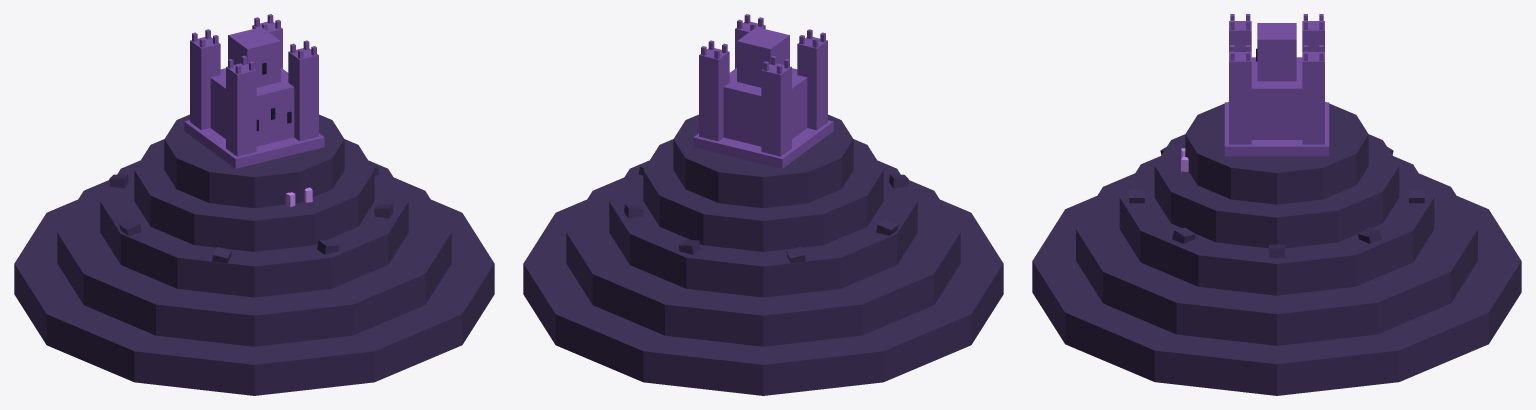
Rendered from castle_tarmin.obj.
3 renders of one model, left to right at view 1: azimuth 30°, elevation 25°; view 2: azimuth 150°, elevation 25°; view 3: azimuth 270°, elevation 25°, orthographic.
Visible parts, largest first — view 1: CastleTarmin; view 2: CastleTarmin; view 3: CastleTarmin.
Part boxes in pixels (left/top/right/bottom): CastleTarmin: left=14, top=14, right=494, bottom=395; CastleTarmin: left=523, top=14, right=1003, bottom=395; CastleTarmin: left=1032, top=14, right=1521, bottom=395.
Size of the model in its own units: 56 by 33 by 56.
